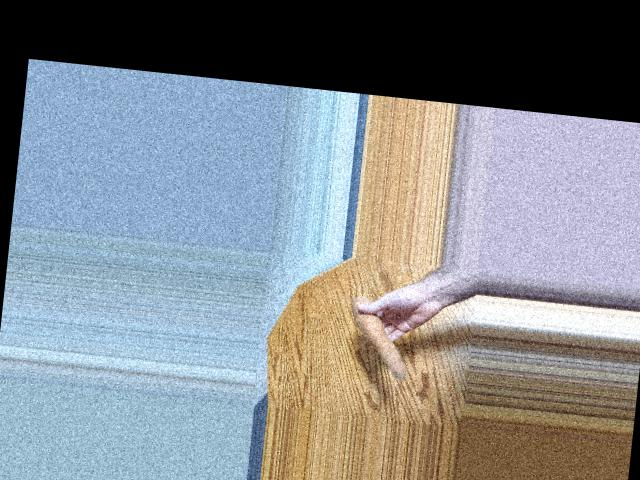sweet_potato: (348, 296, 416, 380)
